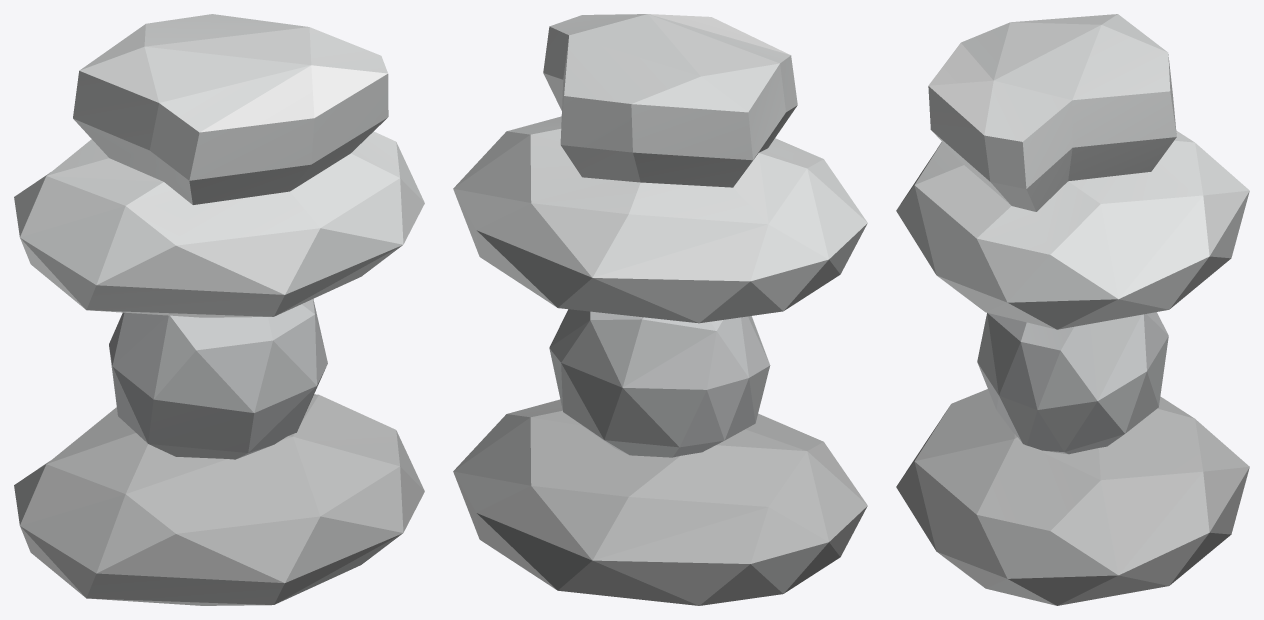
File: stone_6.fbx
3 views of the same model, side by side, from view 1: azimuth 30°, elevation 25°; view 2: azimuth 150°, elevation 25°; view 3: azimuth 270°, elevation 25° (orthographic). The views are drawn at different scales.
Parts seen in each view (by area): view 1: stone_6; view 2: stone_6; view 3: stone_6.
Boxes of the visible parts, x1,y1,x2,y2 form: stone_6: [14, 14, 424, 605]; stone_6: [453, 14, 867, 605]; stone_6: [896, 14, 1249, 605].
Size of the model in its own units: 217 by 298 by 187.
